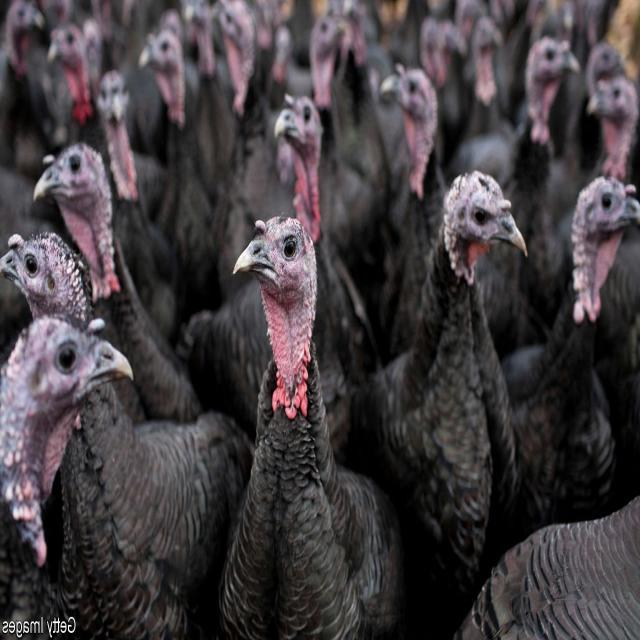turkey: (220, 217, 404, 639), (352, 172, 526, 610), (508, 177, 640, 538)
